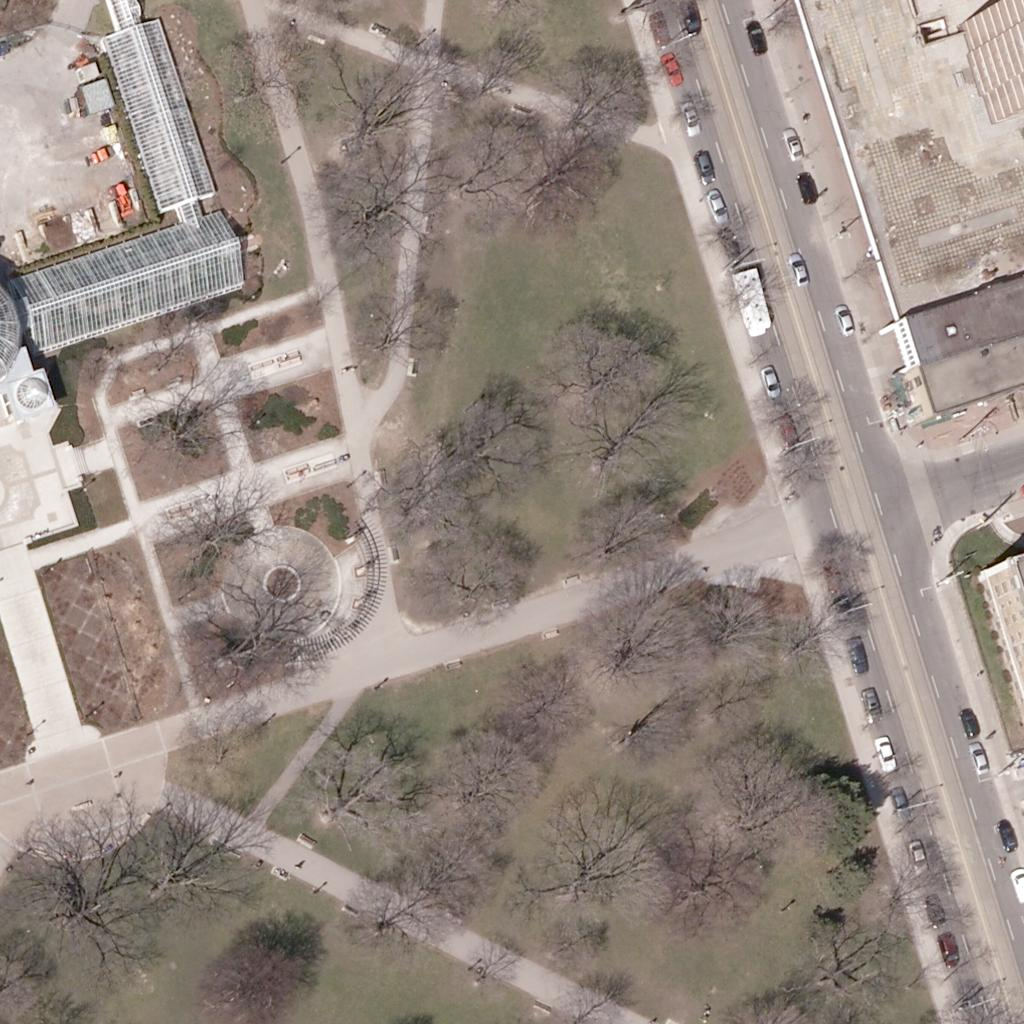car: (640, 8, 674, 42), (739, 20, 773, 54), (655, 50, 689, 84), (673, 99, 707, 133), (777, 128, 811, 162), (688, 146, 722, 180), (791, 168, 825, 202), (698, 187, 732, 221), (714, 224, 748, 258), (783, 253, 817, 287), (829, 303, 863, 337), (753, 361, 787, 395), (770, 412, 804, 446), (841, 637, 875, 671), (855, 686, 889, 720), (951, 703, 985, 737), (868, 735, 902, 769), (961, 739, 995, 773), (884, 786, 918, 820), (885, 786, 919, 820), (990, 817, 1024, 851), (901, 840, 935, 874), (919, 892, 953, 926), (933, 932, 967, 966), (676, 0, 710, 30)
